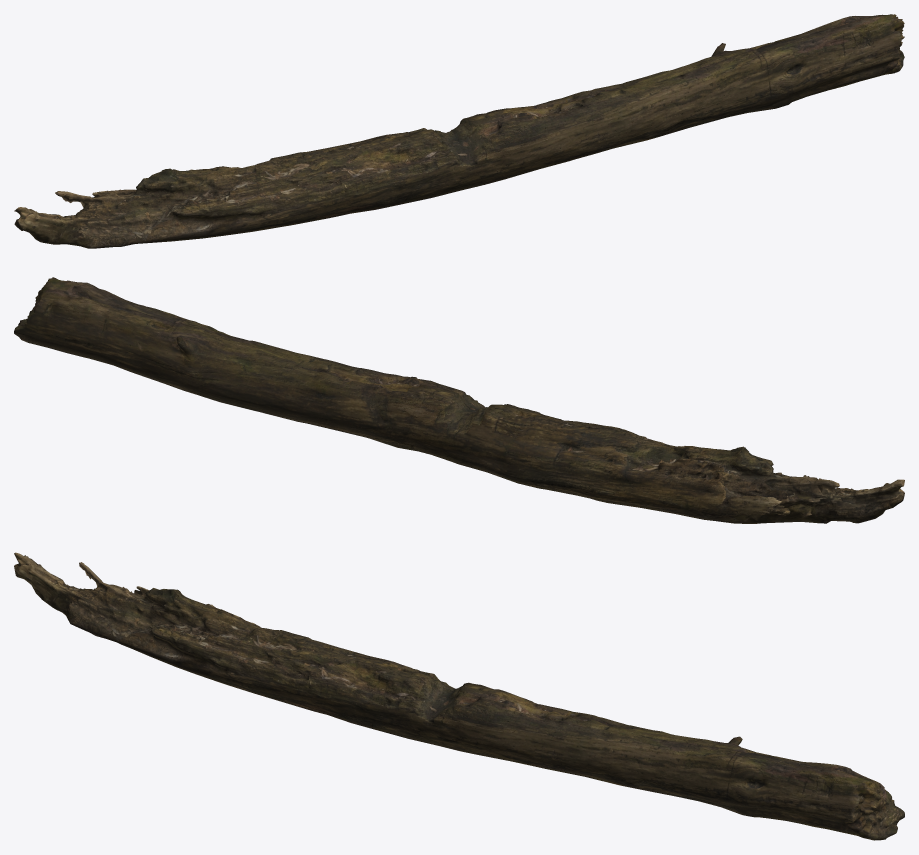
File: dead_tree_trunk.glb
The picture shows the model from 3 angles, top to bottom: view 1: azimuth 30°, elevation 25°; view 2: azimuth 150°, elevation 25°; view 3: azimuth 330°, elevation 25°; orthographic projection.
Parts seen in each view (by area): view 1: dead_tree_trunk; view 2: dead_tree_trunk; view 3: dead_tree_trunk.
Boxes of the visible parts, bbox=[...] form: dead_tree_trunk: bbox=[14, 14, 904, 248]; dead_tree_trunk: bbox=[14, 277, 904, 523]; dead_tree_trunk: bbox=[14, 552, 904, 840].
Size of the model in its own units: 3.05 by 0.2898 by 0.2774.
1 material, 1 textured.
